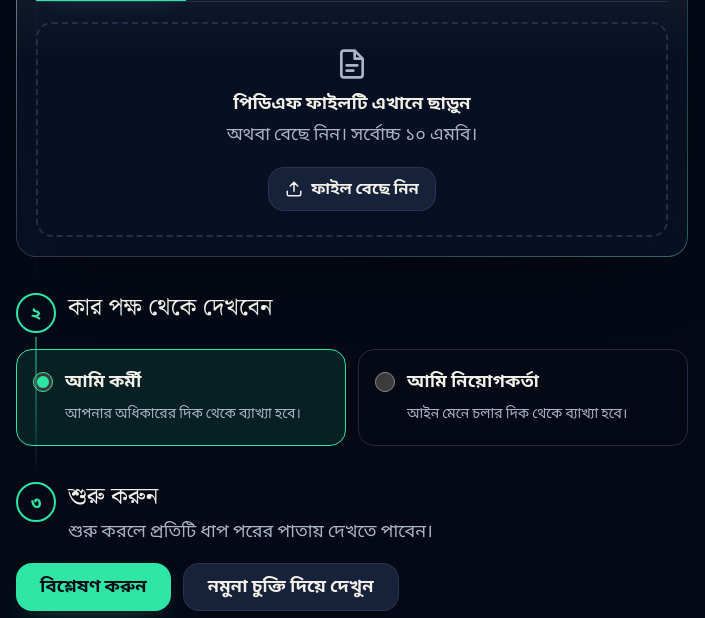
UploadPage › FR-69 not-recorded is explained, not shown as a crash
(page scrolled)
Click the button "নমুনা চুক্তি দিয়ে দেখুন" at (291, 587), box [183, 563, 399, 611]
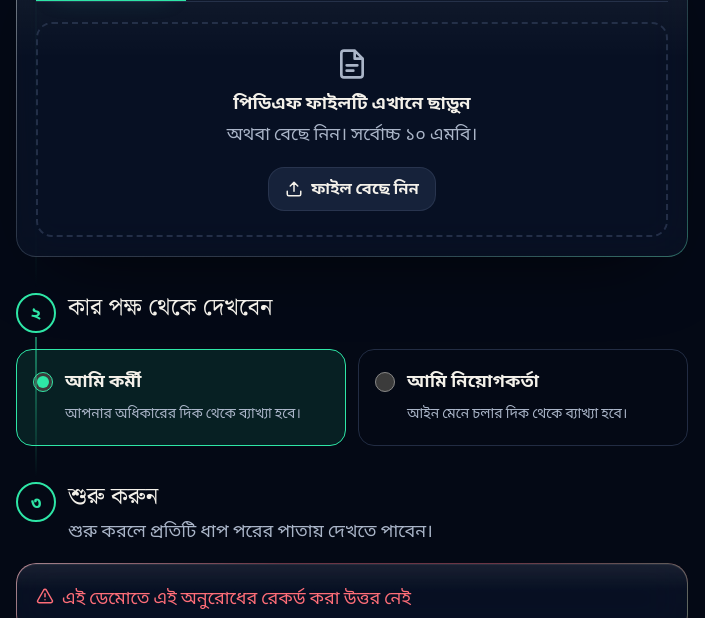
Check: the text "এই ডেমোতে এই অনুরোধের রেকর্ড করা উত্তর নেই" is shown, box [62, 583, 411, 614]
